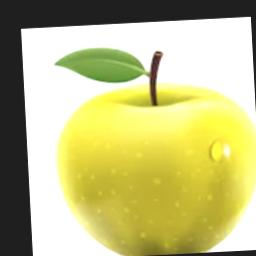Apple Unripe: (1, 23, 256, 256)
